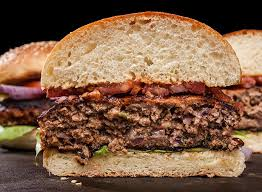hamburger: (38, 11, 246, 177)
